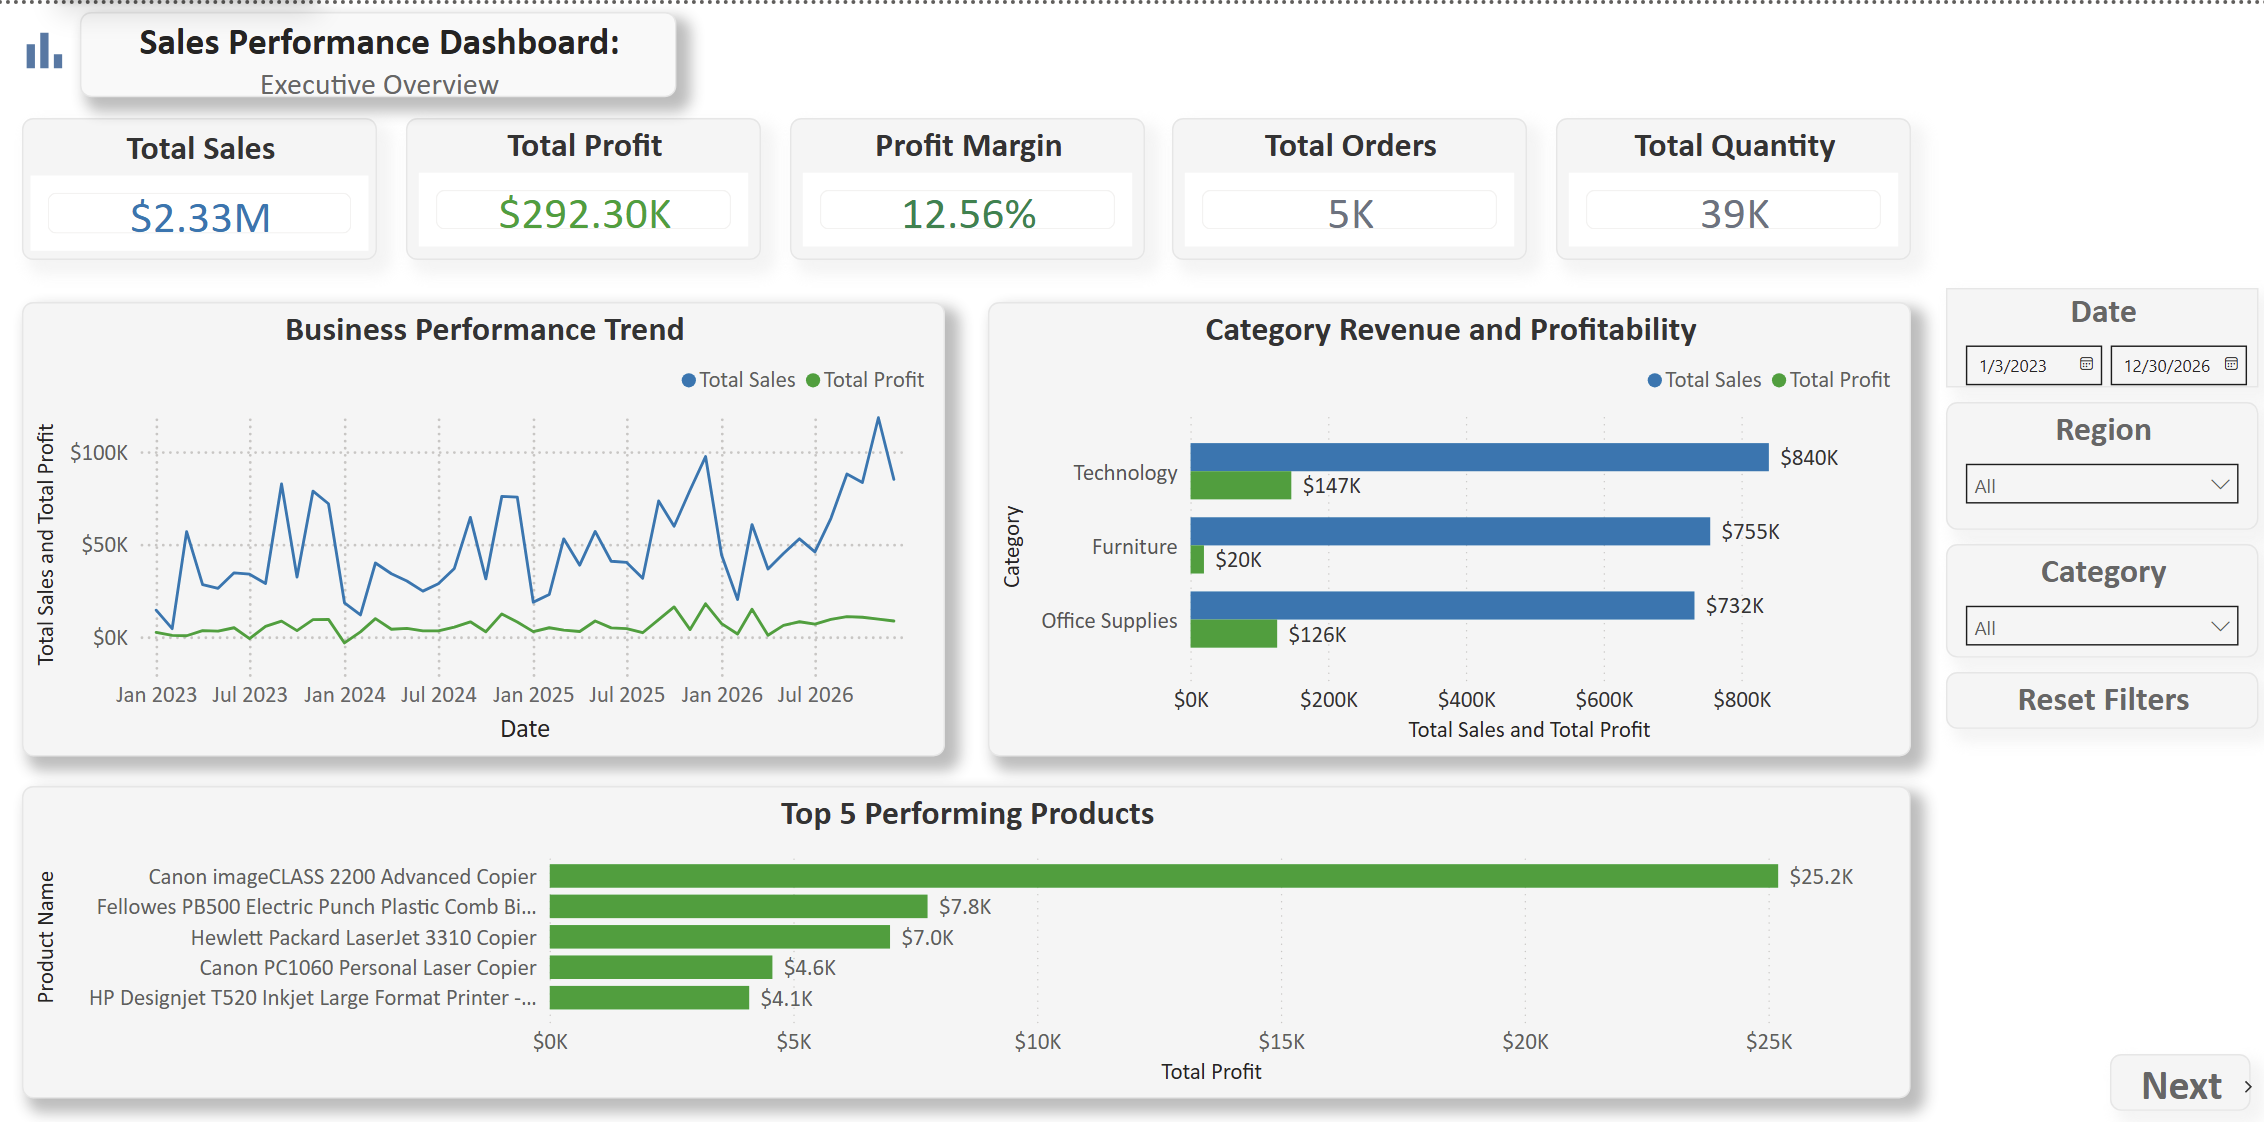

The page's visual inventory and layout, read from the dashboard file:
{"tool":"powerbi","page":{"name":"Executive Overview","canvas":[1600,800],"ordinal":0},"visuals":[{"type":"cardVisual","title":"Total Sales","fields":{"Data":["samplesuperstore.Total Sales"]},"box":[20,80,250,100],"z":0},{"type":"cardVisual","title":"Total Profit","fields":{"Data":["samplesuperstore.Total Profit"]},"box":[290,80,250,100],"z":1000},{"type":"cardVisual","title":"Profit Margin","fields":{"Data":["samplesuperstore.Profit Margin"]},"box":[560,80,250,100],"z":2000},{"type":"cardVisual","title":"Total Orders","fields":{"Data":["samplesuperstore.Total Orders"]},"box":[830,80,250,100],"z":3000},{"type":"cardVisual","title":"Total Quantity","fields":{"Data":["samplesuperstore.Total Quantity"]},"box":[1100,80,250,100],"z":4000},{"type":"lineChart","title":"Business Performance Trend","fields":{"Y":["samplesuperstore.Total Sales","samplesuperstore.Total Profit"],"Category":["samplesuperstore.Order Date.Variation.Date Hierarchy.Year","samplesuperstore.Order Date.Variation.Date Hierarchy.Month"]},"box":[20,210,650,320],"z":5000},{"type":"clusteredBarChart","title":"Category Revenue and Profitability","fields":{"Category":["samplesuperstore.Category"],"Y":["samplesuperstore.Total Sales","samplesuperstore.Total Profit"]},"box":[700,210,650,320],"z":6000},{"type":"slicer","title":"Date","fields":{"Values":["samplesuperstore.Order Date"]},"box":[1375,200,220,70],"z":7000},{"type":"slicer","title":"Region","fields":{"Values":["samplesuperstore.Region"]},"box":[1375,280,220,90],"z":8000},{"type":"slicer","title":"Category","fields":{"Values":["samplesuperstore.Category"]},"box":[1375,380,220,80],"z":9000},{"type":"textbox","title":"Business Performance Dashboard:","box":[60,5,420,60],"z":10000},{"type":"actionButton","title":"Reset Filters","box":[1375,470,220,40],"z":11000},{"type":"clusteredBarChart","title":"Top 5 Performing Products","fields":{"Category":["samplesuperstore.Product Name"],"Y":["samplesuperstore.Total Profit"]},"box":[20,550,1330,220],"z":12000},{"type":"actionButton","title":"Next","box":[1490,740,99,40],"z":13000},{"type":"image","box":[15,12,40,40],"z":14000},{"type":"image","box":[1579,753,18,18],"z":15000}]}

Visuals, with their boxes in screenshot pixels (x1, y1, x2, y2), scaled from the page's 1600x800 canvas onto the 2264x1122 screenshot:
"Total Sales" cardVisual: bbox(28, 112, 382, 252)
"Total Profit" cardVisual: bbox(410, 112, 764, 252)
"Profit Margin" cardVisual: bbox(792, 112, 1146, 252)
"Total Orders" cardVisual: bbox(1174, 112, 1528, 252)
"Total Quantity" cardVisual: bbox(1556, 112, 1910, 252)
"Business Performance Trend" lineChart: bbox(28, 295, 948, 743)
"Category Revenue and Profitability" clusteredBarChart: bbox(990, 295, 1910, 743)
"Date" slicer: bbox(1946, 280, 2257, 379)
"Region" slicer: bbox(1946, 393, 2257, 519)
"Category" slicer: bbox(1946, 533, 2257, 645)
"Business Performance Dashboard:" textbox: bbox(85, 7, 679, 91)
"Reset Filters" actionButton: bbox(1946, 659, 2257, 715)
"Top 5 Performing Products" clusteredBarChart: bbox(28, 771, 1910, 1080)
"Next" actionButton: bbox(2108, 1038, 2248, 1094)
image: bbox(21, 17, 78, 73)
image: bbox(2234, 1056, 2260, 1081)
